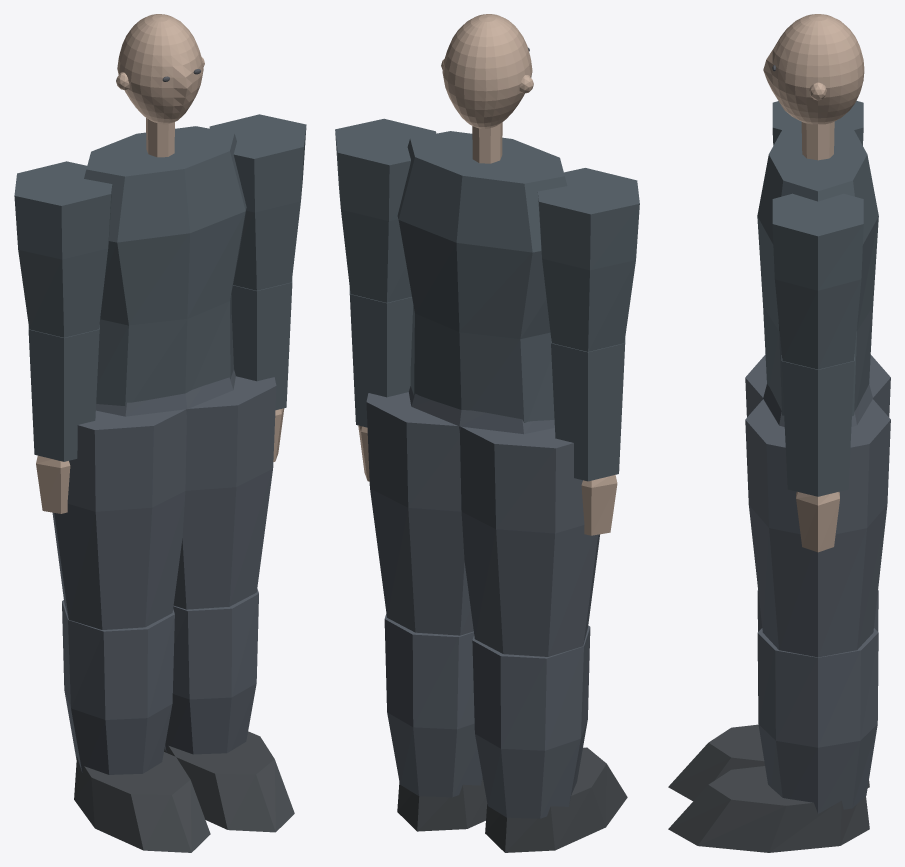
The model's file is detective-lowpoly-sample.glb.
3 views of the same model, side by side, from view 1: azimuth 30°, elevation 25°; view 2: azimuth 150°, elevation 25°; view 3: azimuth 270°, elevation 25° (orthographic). The views are drawn at different scales.
Visible parts, largest first — view 1: clothing.jacket, body.leg.upper.left, body.leg.upper.right, body.leg.lower.left, body.arm.upper.left, body.leg.lower.right, body.arm.upper.right, body.foot.left, body.arm.lower.left, body.foot.right, face.head, body.arm.lower.right (+3 smaller); view 2: clothing.jacket, body.leg.upper.left, body.leg.upper.right, body.leg.lower.left, body.arm.upper.left, body.leg.lower.right, body.arm.upper.right, body.arm.lower.left, face.head, body.foot.left, body.arm.lower.right, body.foot.right (+3 smaller); view 3: body.leg.upper.right, body.leg.lower.right, body.arm.upper.right, clothing.jacket, body.foot.right, body.arm.lower.right, face.head, body.foot.left, body.hand.right, body.leg.upper.left, body.neck, body.arm.upper.left (+1 smaller).
Part boxes in pixels (bbox=[...]): clothing.jacket: bbox=[84, 126, 246, 405]; body.leg.upper.left: bbox=[52, 409, 186, 629]; body.leg.upper.right: bbox=[173, 376, 276, 609]; body.leg.lower.left: bbox=[62, 600, 174, 774]; body.arm.upper.left: bbox=[14, 161, 112, 337]; body.leg.lower.right: bbox=[165, 589, 258, 754]; body.arm.upper.right: bbox=[209, 114, 306, 290]; body.foot.left: bbox=[74, 752, 210, 852]; body.arm.lower.left: bbox=[28, 325, 99, 461]; body.foot.right: bbox=[164, 731, 294, 832]; face.head: bbox=[117, 14, 203, 124]; body.arm.lower.right: bbox=[231, 278, 292, 410]; clothing.jacket: bbox=[397, 131, 567, 422]; body.leg.upper.left: bbox=[460, 426, 599, 656]; body.leg.upper.right: bbox=[366, 392, 473, 635]; body.leg.lower.left: bbox=[472, 625, 590, 818]; body.arm.upper.left: bbox=[537, 168, 639, 351]; body.leg.lower.right: bbox=[384, 614, 482, 797]; body.arm.upper.right: bbox=[335, 118, 436, 302]; body.arm.lower.left: bbox=[551, 338, 625, 481]; face.head: bbox=[442, 14, 532, 128]; body.foot.left: bbox=[485, 747, 627, 852]; body.arm.lower.right: bbox=[349, 288, 413, 427]; body.foot.right: bbox=[397, 778, 487, 831]; body.leg.upper.right: bbox=[745, 399, 890, 657]; body.leg.lower.right: bbox=[757, 628, 878, 813]; body.arm.upper.right: bbox=[772, 193, 863, 369]; clothing.jacket: bbox=[757, 122, 878, 416]; body.foot.right: bbox=[668, 766, 869, 852]; body.arm.lower.right: bbox=[781, 354, 854, 496]; face.head: bbox=[763, 14, 864, 124]; body.foot.left: bbox=[668, 724, 869, 800]; body.hand.right: bbox=[796, 491, 839, 552]; body.leg.upper.left: bbox=[745, 354, 890, 417]; body.neck: bbox=[801, 121, 834, 160]; body.arm.upper.left: bbox=[772, 100, 863, 145].
Size of the model in its own units: 0.6934 by 1.75 by 0.447.
